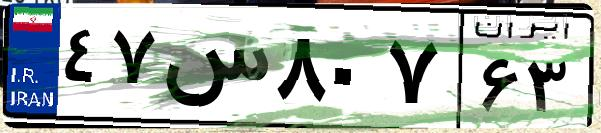0: (330, 28, 385, 110)
3: (525, 38, 570, 115)
4: (57, 26, 110, 100)
6: (475, 38, 525, 113)
7: (385, 28, 445, 110), (110, 28, 158, 98)
8: (270, 28, 330, 110)
س: (158, 20, 270, 120)
